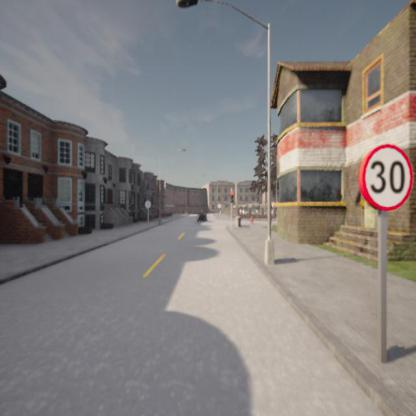traffic_sign_30: (358, 143, 414, 211)
